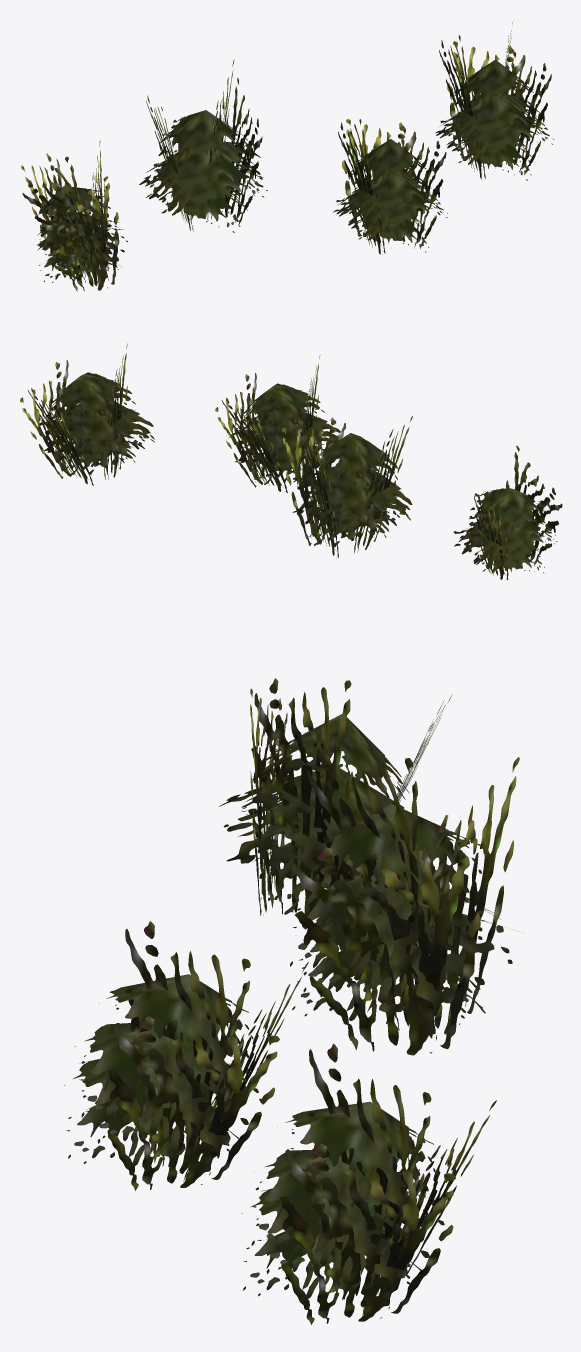
3 renders of one model, top to bottom at view 1: azimuth 30°, elevation 25°; view 2: azimuth 150°, elevation 25°; view 3: azimuth 270°, elevation 25°, orthographic. The views are drawn at different scales.
Visible parts, largest first — view 1: Grass04; view 2: Grass04; view 3: Grass04.
Part boxes in pixels (x1,y1,x2,y2): Grass04: (21, 20, 554, 291); Grass04: (20, 343, 562, 579); Grass04: (64, 678, 519, 1324).
Bounding box in the file's own units: 382 × 119 × 168.
